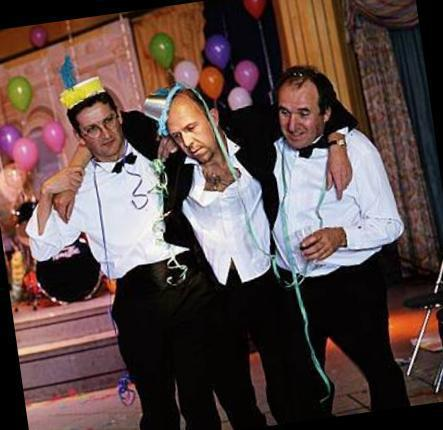Drunk: (166, 108, 216, 159), (277, 88, 319, 146), (75, 102, 120, 155)
